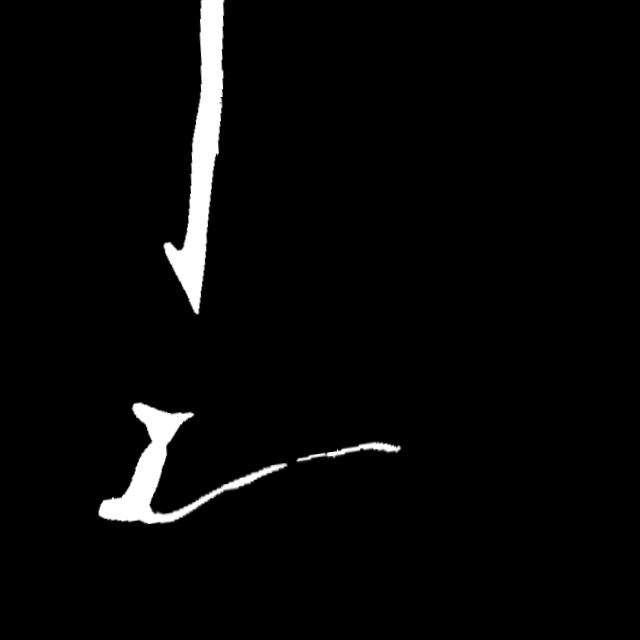sup: (287, 459, 304, 474)
